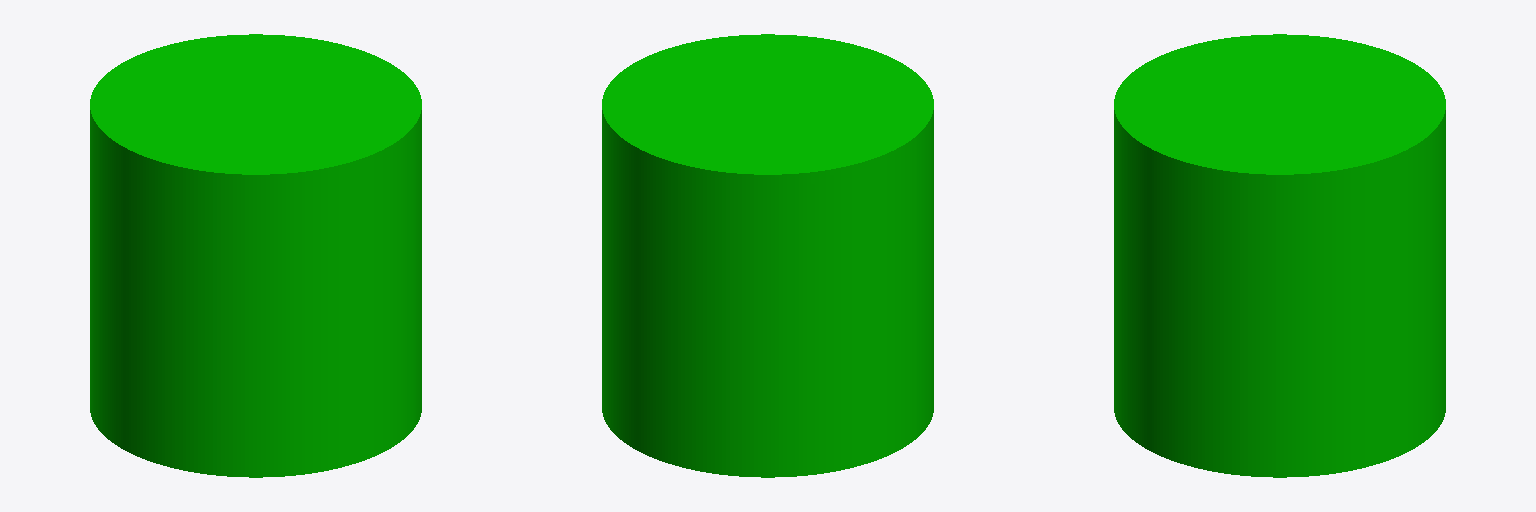
The model's file is cilindro.obj.
The picture shows the model from 3 angles: view 1: azimuth 30°, elevation 25°; view 2: azimuth 150°, elevation 25°; view 3: azimuth 270°, elevation 25°; orthographic projection.
Visible parts, largest first — view 1: Cone.006_Cone.011; view 2: Cone.006_Cone.011; view 3: Cone.006_Cone.011.
Part boxes in pixels (x1,y1,x2,y2): Cone.006_Cone.011: (90, 34, 421, 477); Cone.006_Cone.011: (602, 34, 933, 477); Cone.006_Cone.011: (1114, 34, 1445, 477).
Bounding box in the file's own units: 6.3 × 6.34 × 6.3.